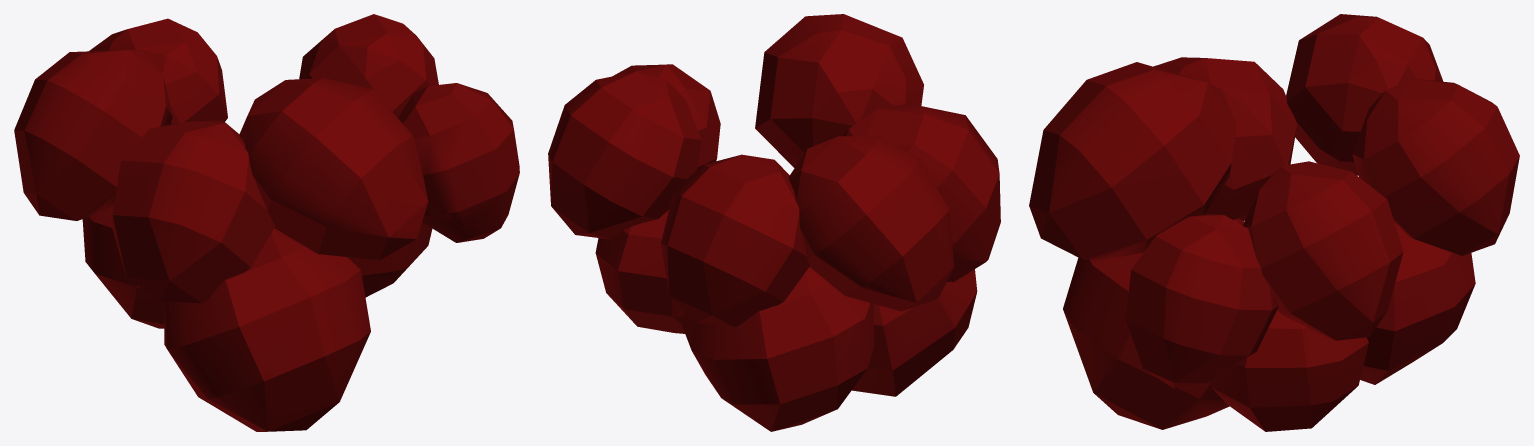
Rendered from SM_Env_Tree_Palm_01_Coconuts_01.gltf.
3 views of the same model, side by side, from view 1: azimuth 30°, elevation 25°; view 2: azimuth 150°, elevation 25°; view 3: azimuth 270°, elevation 25° (orthographic). The views are drawn at different scales.
Visible parts, largest first — view 1: SM_Env_Tree_Palm_01_Coconuts_01; view 2: SM_Env_Tree_Palm_01_Coconuts_01; view 3: SM_Env_Tree_Palm_01_Coconuts_01.
Boxes of the visible parts, x1,y1,x2,y2 form: SM_Env_Tree_Palm_01_Coconuts_01: (14,14,519,431); SM_Env_Tree_Palm_01_Coconuts_01: (548,14,1000,431); SM_Env_Tree_Palm_01_Coconuts_01: (1029,14,1519,431).
Size of the model in its own units: 0.864 by 0.6753 by 0.8173.
